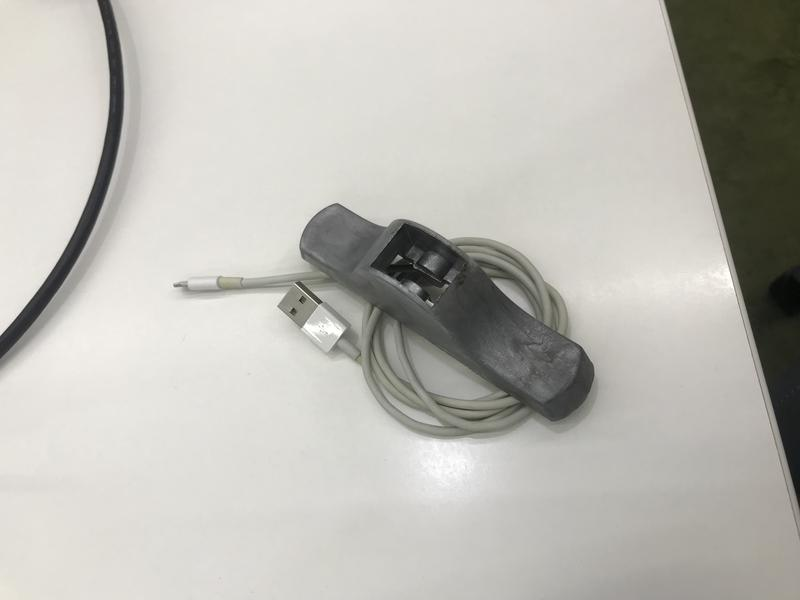zapchast: (289, 197, 601, 428)
